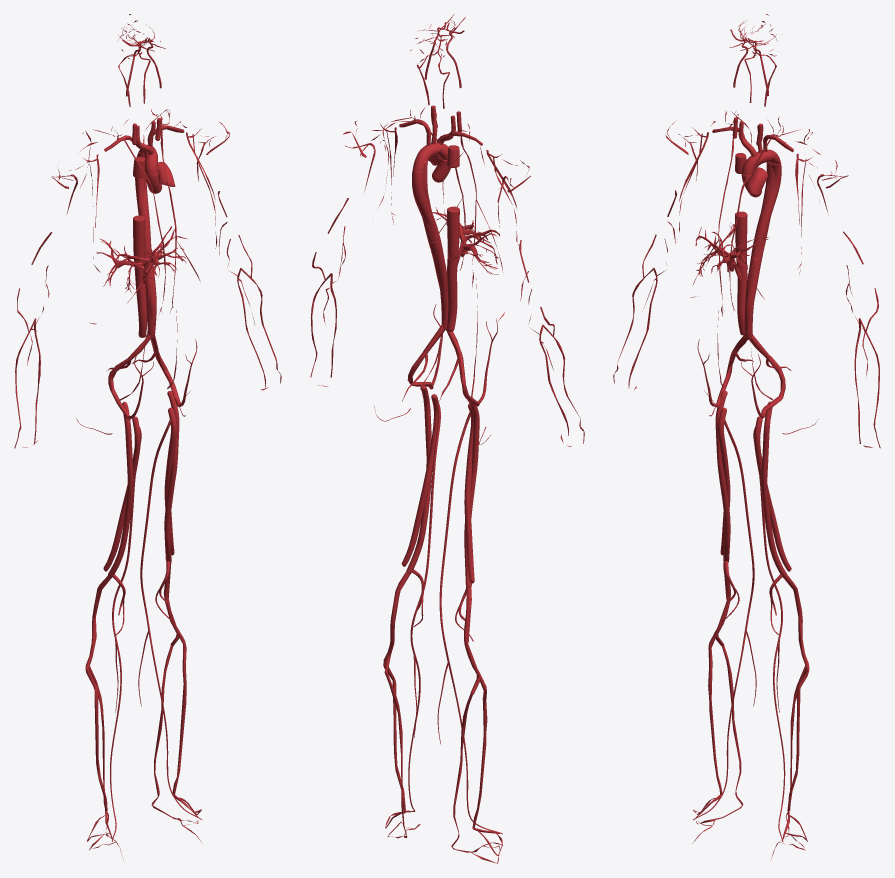
File: vessels.glb
3 renders of one model, left to right at view 1: azimuth 30°, elevation 25°; view 2: azimuth 150°, elevation 25°; view 3: azimuth 330°, elevation 25°, orthographic. The views are drawn at different scales.
Parts seen in each view (by area): view 1: common-iliac-artery-r, common-iliac-artery-l, subclavian-artery-r, subclavian-artery-l, aorta, femoral-artery-r, femoral-artery-l, hepatic-portal-vein, great-saphenous-vein-l, inferior-vena-cava, great-saphenous-vein-r, femoral-vein-r (+1 smaller); view 2: aorta, common-iliac-artery-r, common-iliac-artery-l, subclavian-artery-r, subclavian-artery-l, femoral-artery-l, inferior-vena-cava, femoral-artery-r, great-saphenous-vein-r, great-saphenous-vein-l, femoral-vein-l, femoral-vein-r (+1 smaller); view 3: aorta, common-iliac-artery-l, subclavian-artery-l, common-iliac-artery-r, subclavian-artery-r, femoral-artery-l, femoral-artery-r, great-saphenous-vein-r, inferior-vena-cava, hepatic-portal-vein, great-saphenous-vein-l, femoral-vein-l (+1 smaller).
Part boxes in pixels (box(x1,y1,x2,y2)): common-iliac-artery-r: box(85, 314, 154, 858); common-iliac-artery-l: box(132, 310, 202, 843); subclavian-artery-r: box(14, 14, 165, 448); subclavian-artery-l: box(138, 52, 281, 390); aorta: box(135, 144, 162, 338); femoral-artery-r: box(76, 354, 153, 635); femoral-artery-l: box(155, 339, 197, 621); hepatic-portal-vein: box(96, 226, 188, 292); great-saphenous-vein-l: box(138, 418, 201, 819); inferior-vena-cava: box(133, 215, 147, 337); great-saphenous-vein-r: box(110, 426, 141, 841); femoral-vein-r: box(103, 416, 140, 571); aorta: box(412, 141, 450, 329); common-iliac-artery-r: box(439, 278, 503, 863); common-iliac-artery-l: box(383, 324, 444, 838); subclavian-artery-r: box(410, 24, 584, 446); subclavian-artery-l: box(310, 52, 465, 386); femoral-artery-l: box(374, 304, 442, 626); inferior-vena-cava: box(446, 206, 459, 331); femoral-artery-r: box(455, 318, 497, 641); great-saphenous-vein-r: box(437, 412, 502, 834); great-saphenous-vein-l: box(408, 402, 440, 811); femoral-vein-l: box(401, 394, 438, 566); femoral-vein-r: box(464, 404, 474, 583); aorta: box(741, 149, 781, 339); common-iliac-artery-l: box(740, 314, 809, 860); subclavian-artery-l: box(729, 52, 880, 448); common-iliac-artery-r: box(692, 310, 753, 843); subclavian-artery-r: box(613, 14, 782, 389); femoral-artery-l: box(741, 353, 816, 635); femoral-artery-r: box(697, 339, 739, 621); great-saphenous-vein-r: box(693, 418, 756, 820); inferior-vena-cava: box(735, 211, 747, 335); hepatic-portal-vein: box(695, 223, 769, 280); great-saphenous-vein-l: box(753, 427, 785, 841); femoral-vein-l: box(754, 416, 791, 571).
Size of the model in its own units: 0.5589 by 1.63 by 0.2061.
